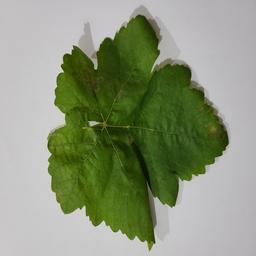Powdery-Mildew: (50, 127, 73, 155), (77, 127, 97, 148), (86, 70, 103, 93), (204, 122, 218, 133), (119, 104, 131, 116), (125, 134, 136, 145)
